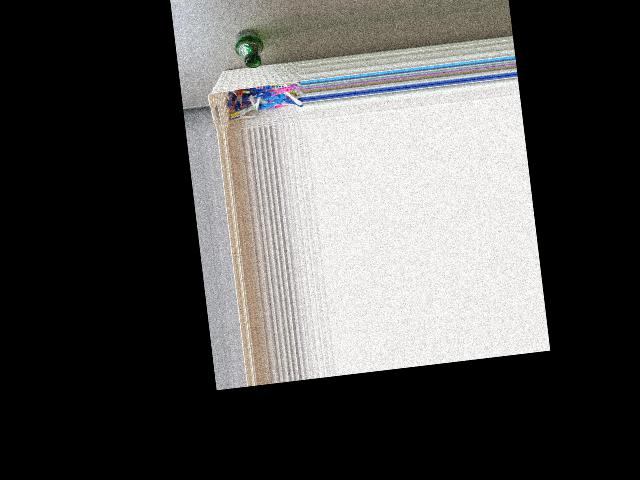beer: (232, 27, 266, 69)
